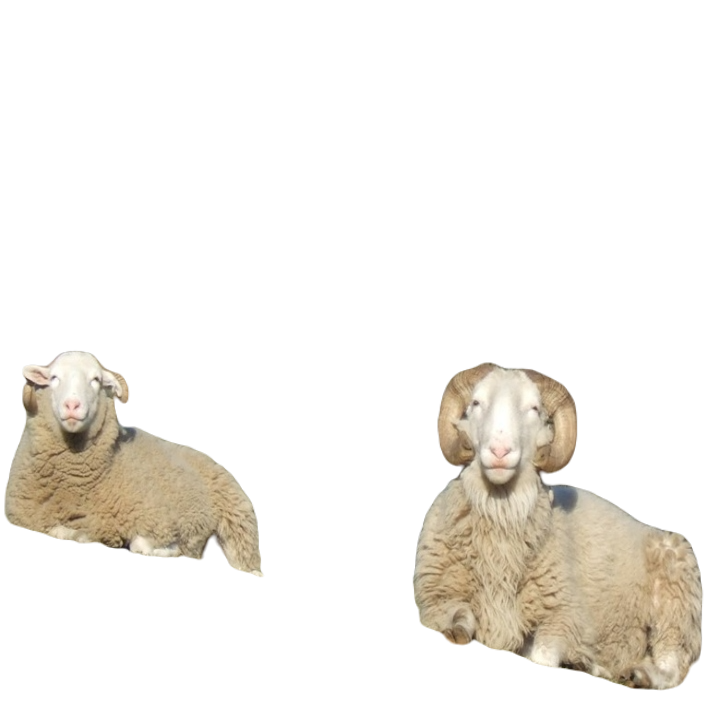Sheep: (410, 360, 709, 693), (1, 347, 270, 586)
